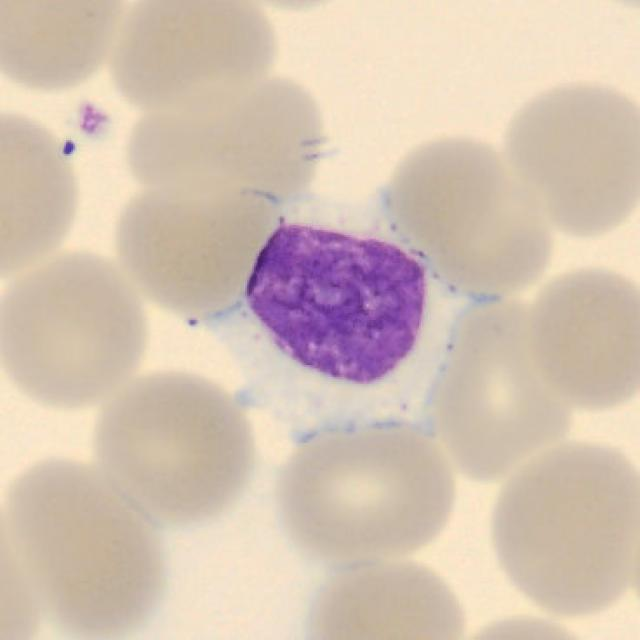Linfocito atipico: (190, 195, 499, 458)
